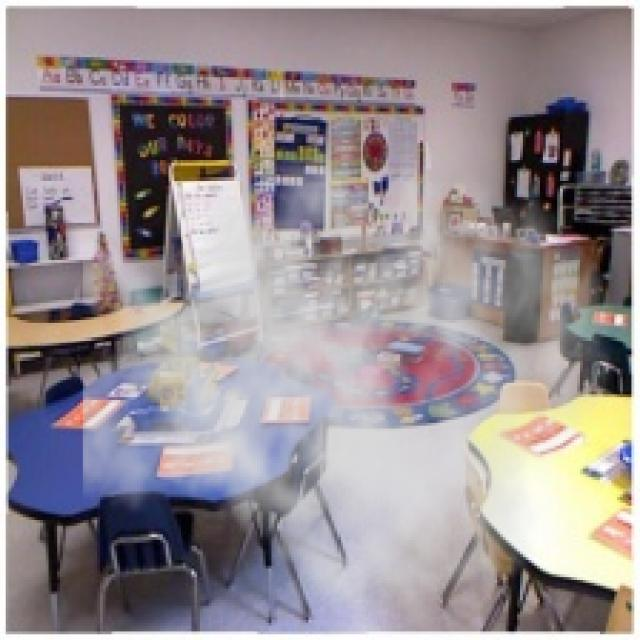smoke: (83, 91, 614, 634)
